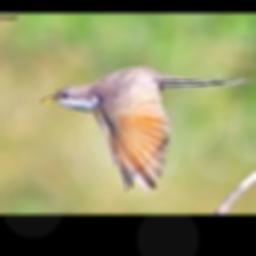Cuckoo: (39, 65, 251, 192)
